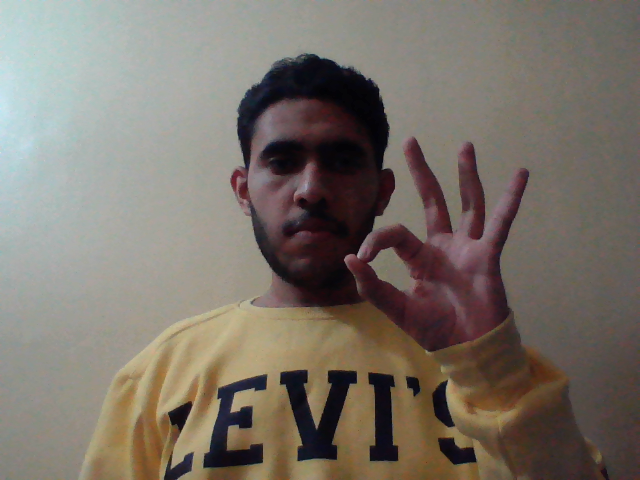F: (329, 133, 540, 351)
